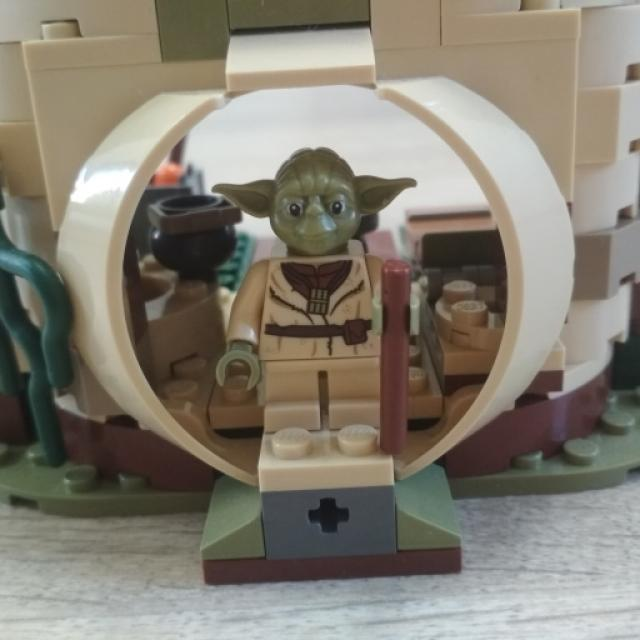Lego-Minifigures: (192, 146, 444, 445)
